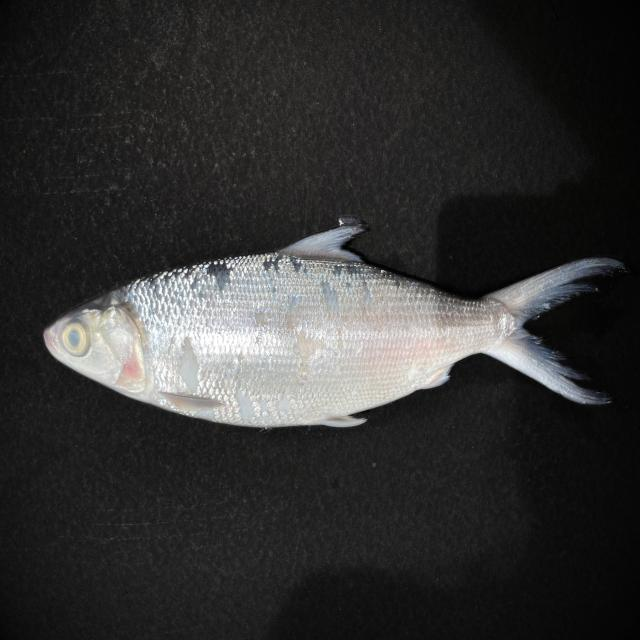800 g: (43, 225, 626, 428)
